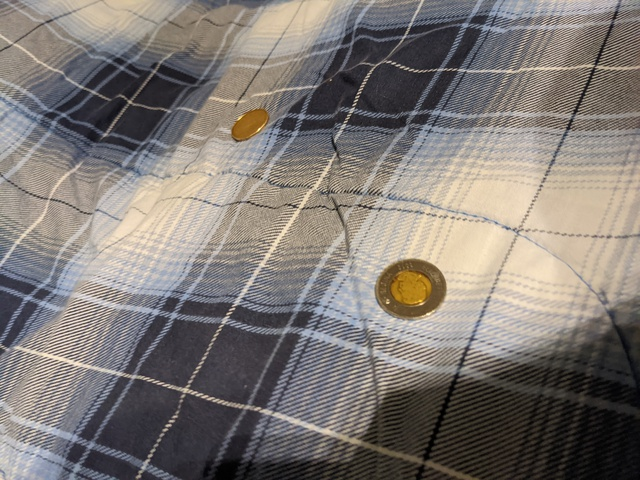twonie: (370, 253, 447, 327)
